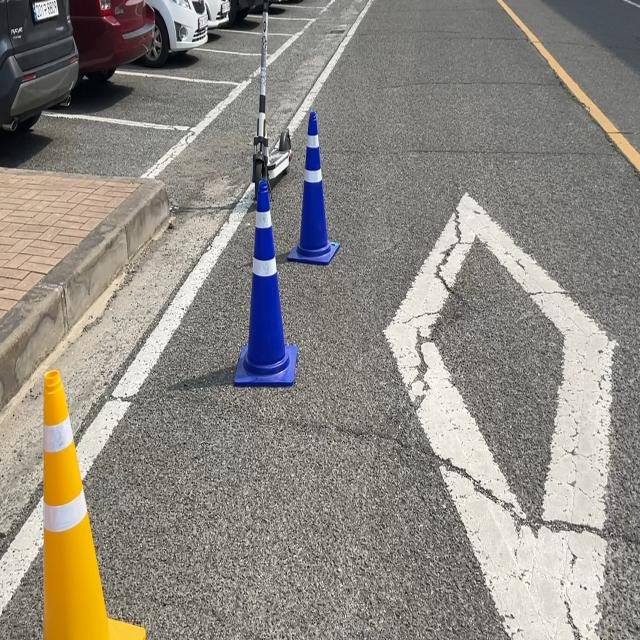b_rub: (234, 179, 298, 386), (288, 109, 340, 264)
y_rub: (43, 370, 145, 640)
